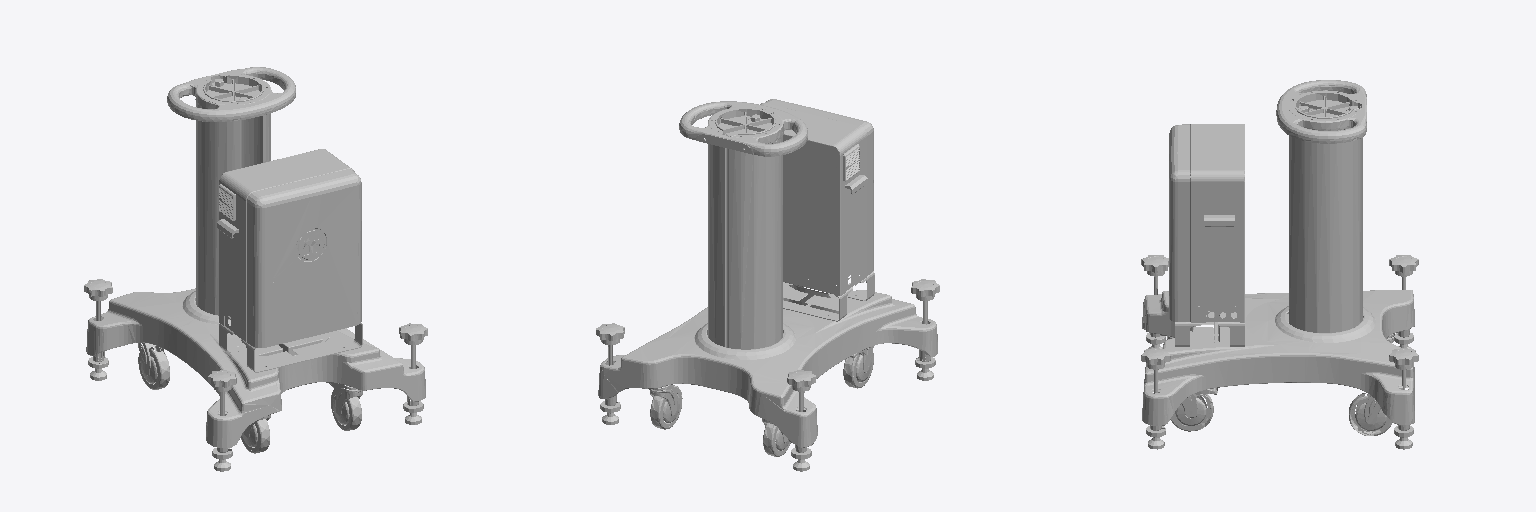
File: pedestal.obj
The picture shows the model from 3 angles: view 1: azimuth 30°, elevation 25°; view 2: azimuth 150°, elevation 25°; view 3: azimuth 270°, elevation 25°; orthographic projection.
Parts seen in each view (by area): view 1: node_shape0.009; view 2: node_shape0.009; view 3: node_shape0.009.
Boxes of the visible parts, box(x1,y1,x2,y2) form: node_shape0.009: box(84, 67, 427, 471); node_shape0.009: box(596, 99, 939, 471); node_shape0.009: box(1141, 80, 1418, 449).
Bounding box in the file's own units: 0.6859 × 0.926 × 0.7667.